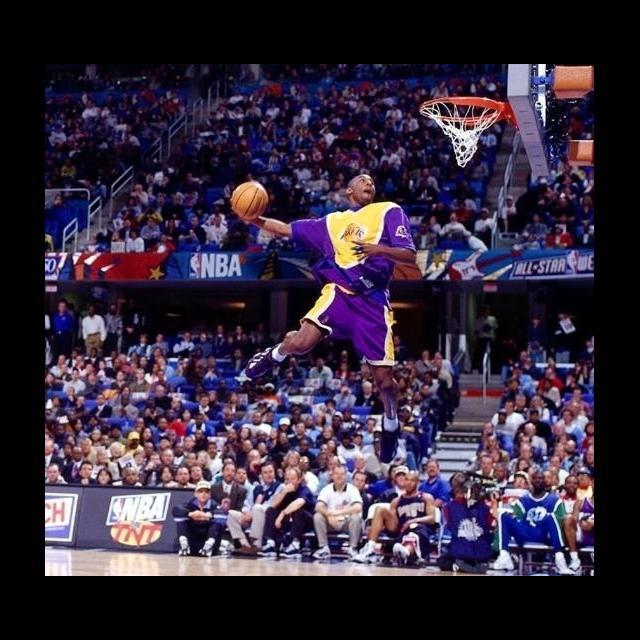basketball: (233, 182, 268, 218)
hoop: (421, 99, 506, 168)
